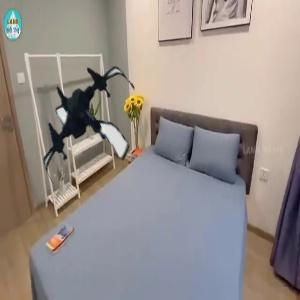drone: (27, 62, 147, 182)
